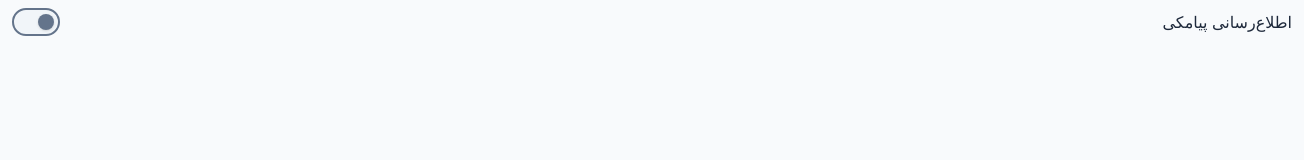
selection controls › switches on
Step 1. Click the switch named "اطلاع‌رسانی پیامکی" → (36,22), box [12,8,60,36]
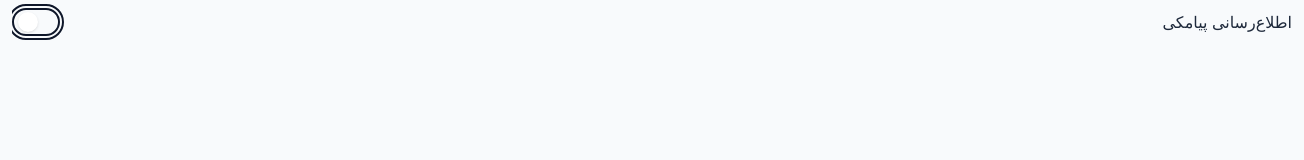
expect the switch named "اطلاع‌رسانی پیامکی" is checked: met, box [12,8,60,36]
